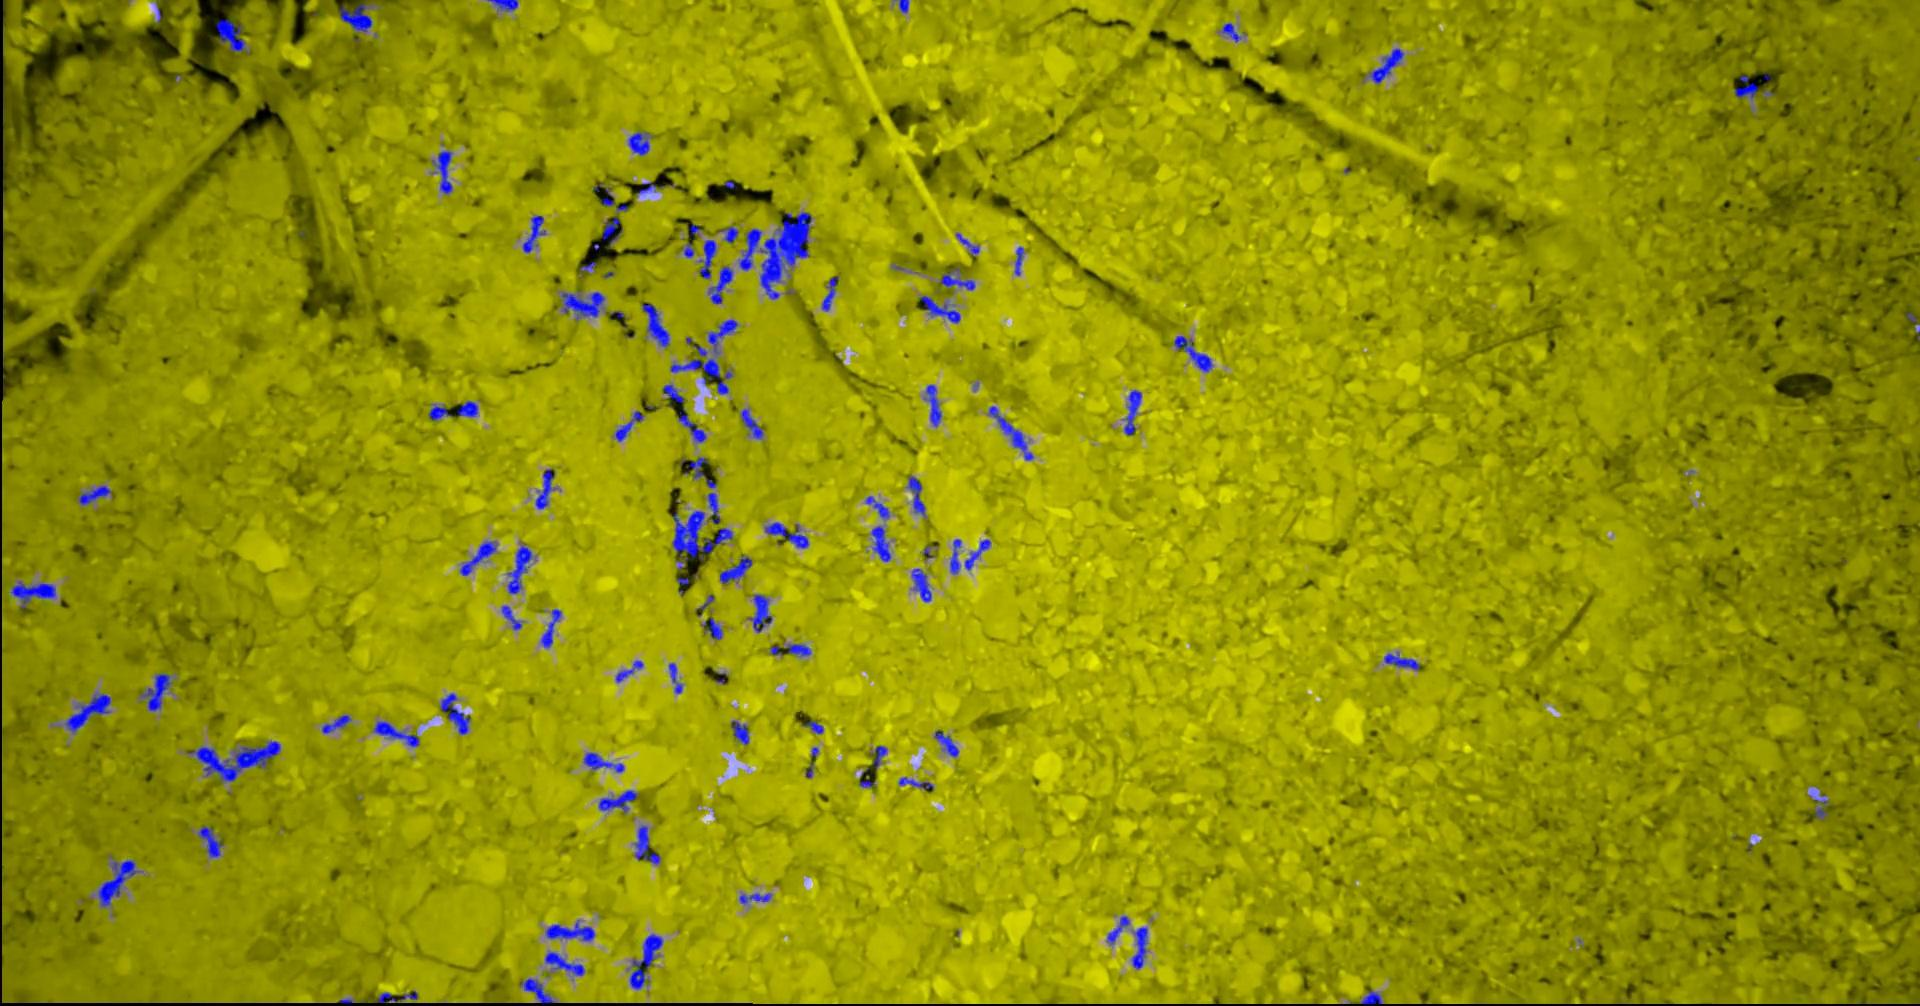ant: (670, 345, 731, 392), (988, 406, 1032, 460), (97, 859, 137, 906), (629, 934, 662, 989), (63, 694, 110, 732), (1173, 335, 1211, 371), (458, 541, 497, 575), (140, 672, 171, 711), (10, 580, 55, 608), (439, 694, 469, 734), (1369, 48, 1403, 83), (641, 304, 669, 345), (507, 545, 531, 593), (561, 291, 604, 318), (919, 295, 959, 323), (764, 522, 808, 547), (373, 721, 418, 746), (677, 406, 706, 442), (545, 920, 594, 940), (707, 319, 737, 353), (738, 227, 761, 271), (543, 951, 584, 976), (634, 826, 659, 864), (215, 18, 244, 51), (519, 978, 555, 1005), (430, 150, 452, 193), (339, 3, 371, 30), (719, 555, 750, 583), (709, 265, 731, 304), (615, 410, 643, 441), (598, 790, 637, 812), (522, 215, 545, 251), (583, 752, 623, 772), (749, 594, 771, 633), (938, 267, 974, 290), (1124, 389, 1142, 434), (964, 539, 990, 569), (197, 826, 222, 857), (535, 467, 554, 508), (540, 608, 560, 647), (871, 525, 890, 561), (907, 475, 924, 514), (924, 384, 941, 426), (910, 568, 931, 601), (1106, 915, 1129, 944), (698, 239, 715, 278), (1383, 652, 1418, 669), (740, 409, 762, 438), (77, 485, 110, 504), (1131, 927, 1147, 968), (935, 729, 957, 756), (615, 661, 643, 682), (955, 232, 979, 257), (822, 276, 838, 310), (601, 216, 620, 245), (865, 495, 889, 518), (1735, 75, 1757, 98), (321, 715, 350, 733), (770, 643, 810, 655), (629, 131, 649, 155), (502, 605, 521, 629), (898, 776, 933, 789), (668, 662, 682, 694), (702, 617, 723, 639), (662, 384, 684, 401), (731, 720, 748, 744), (949, 539, 960, 573), (688, 457, 707, 478), (871, 746, 886, 770), (707, 492, 719, 523), (361, 992, 396, 1002), (456, 400, 477, 417), (428, 404, 450, 420), (1359, 989, 1382, 1005), (1222, 22, 1239, 41), (717, 226, 738, 243), (739, 893, 770, 903), (637, 182, 664, 193), (488, 0, 517, 10), (858, 770, 875, 788), (1815, 795, 1827, 817), (1015, 246, 1023, 276), (803, 720, 823, 733), (599, 188, 613, 205), (683, 243, 693, 257), (898, 0, 908, 11)
